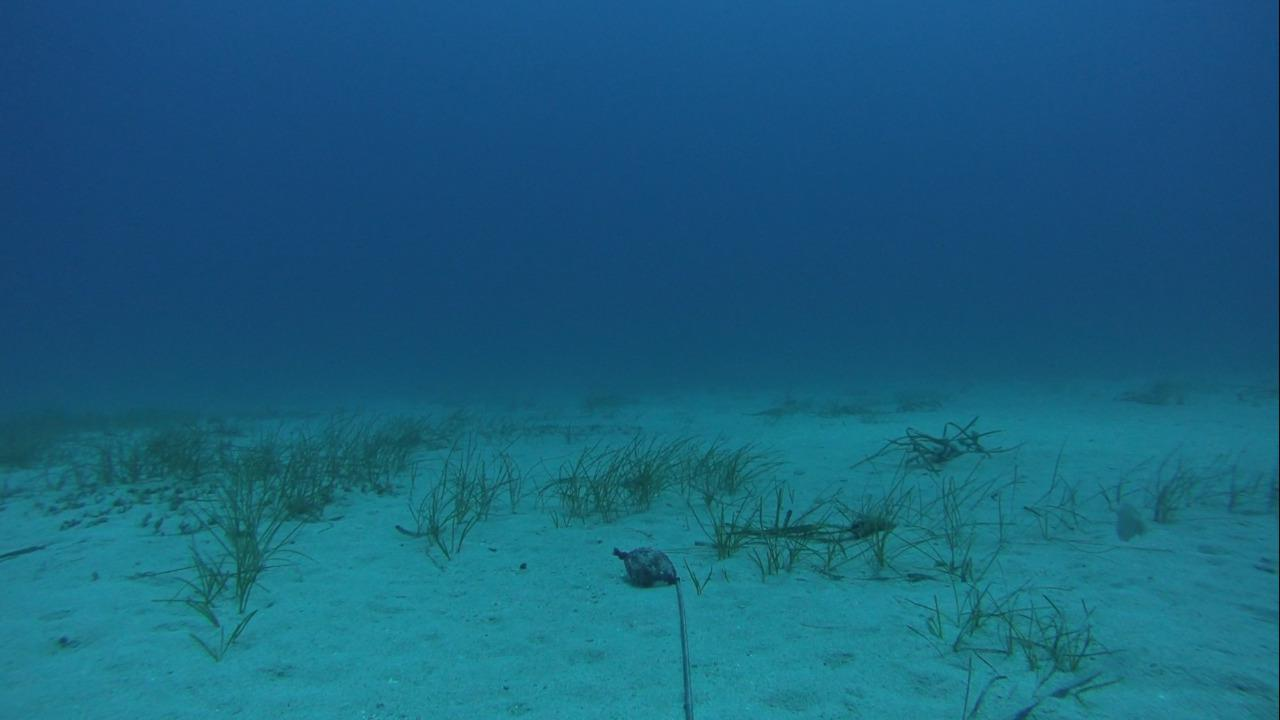raor: (1107, 495, 1143, 543)
